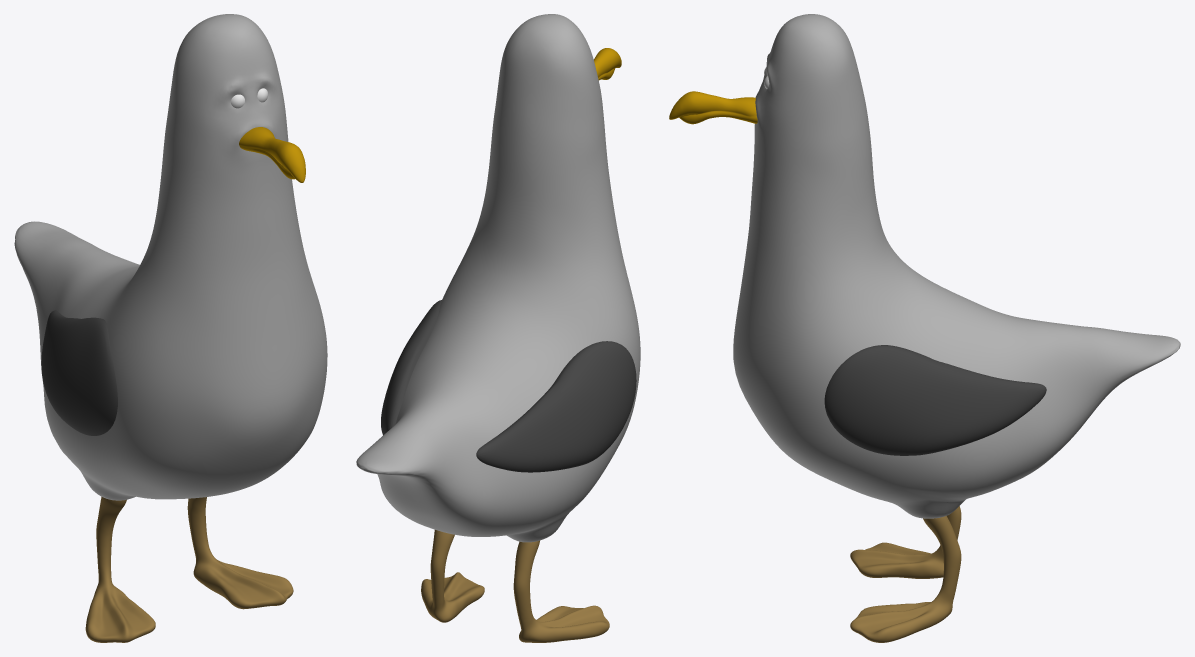
The model's file is NemoSeagulMineMine.fbx.
3 renders of one model, left to right at view 1: azimuth 30°, elevation 25°; view 2: azimuth 150°, elevation 25°; view 3: azimuth 270°, elevation 25°, orthographic. The views are drawn at different scales.
Parts seen in each view (by area): view 1: MineBody, MineLegs, MineWings, MineBeak; view 2: MineBody, MineWings, MineLegs, MineBeak; view 3: MineBody, MineWings, MineLegs, MineBeak.
Part boxes in pixels (bbox=[...]): MineBody: bbox=[14, 14, 327, 500]; MineLegs: bbox=[85, 496, 293, 642]; MineWings: bbox=[41, 310, 117, 435]; MineBeak: bbox=[239, 127, 305, 182]; MineBody: bbox=[356, 14, 640, 542]; MineWings: bbox=[381, 300, 636, 472]; MineLegs: bbox=[421, 530, 609, 642]; MineBeak: bbox=[594, 48, 621, 80]; MineBody: bbox=[733, 14, 1180, 518]; MineWings: bbox=[824, 345, 1046, 455]; MineLegs: bbox=[850, 506, 961, 642]; MineBeak: bbox=[669, 91, 757, 124].
Bounding box in the file's own units: 0.533 × 1.39 × 1.11.
